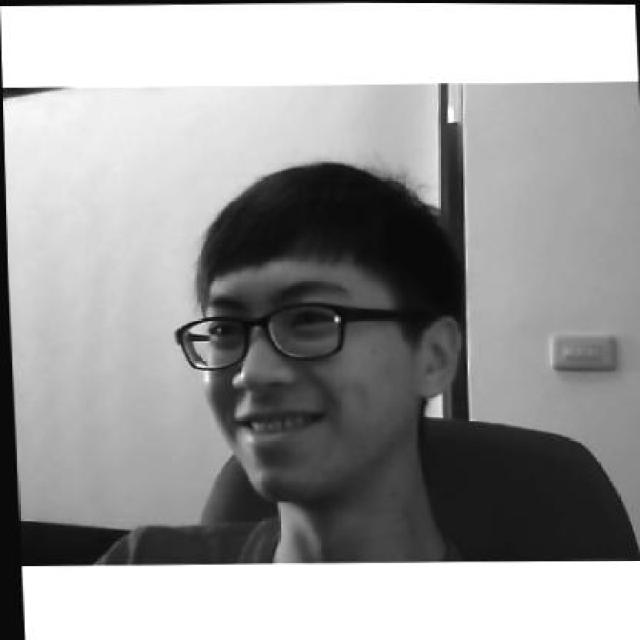attentif: (167, 155, 464, 500)
